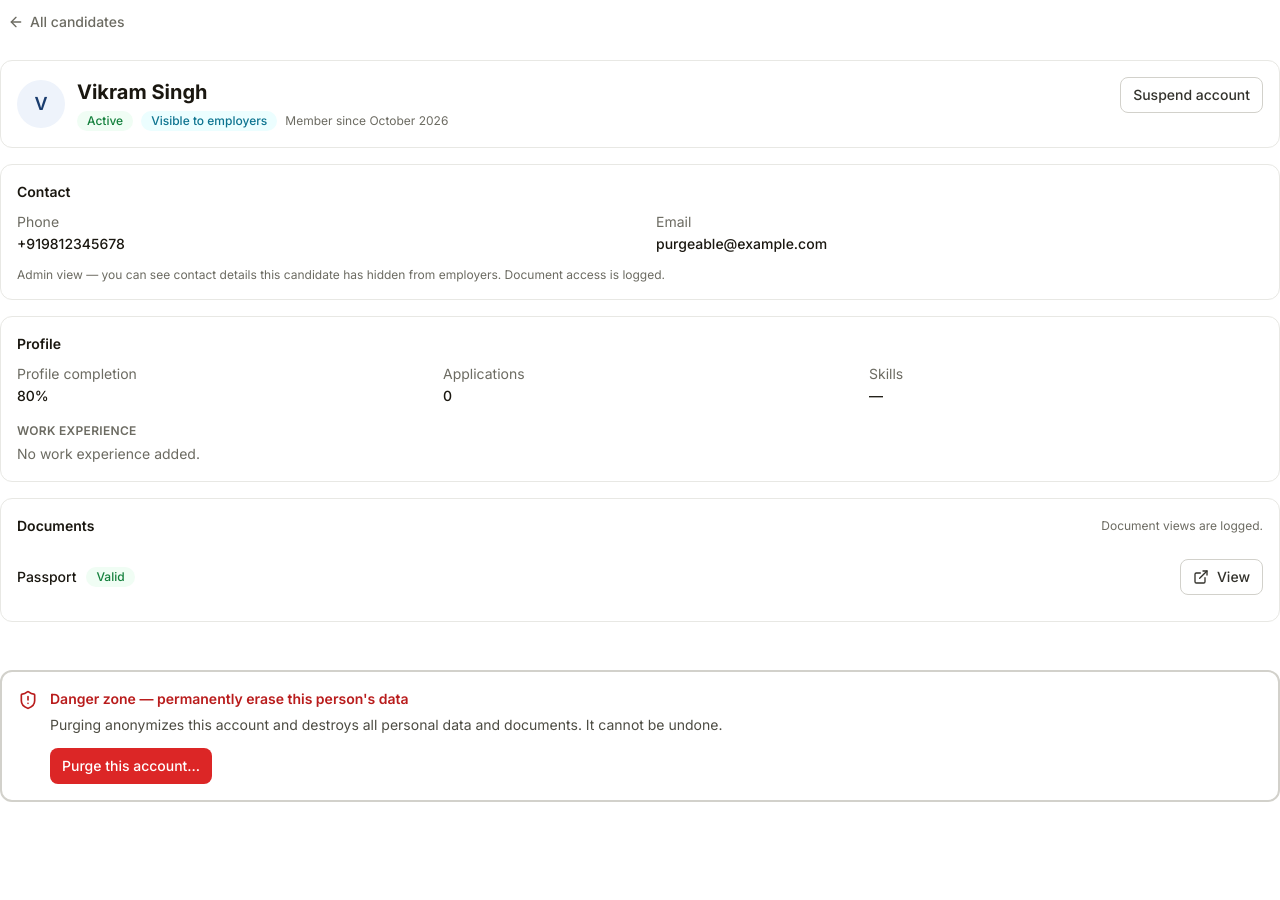
AdminDocumentList (via the detail) › a failed/expired grant shows the refresh-link affordance
Expected: the heading "Vikram Singh" is shown, 77,80 -> 208,104
Click the button with aria-label "view passport". click: x=1221, y=577
box: 1180,559 -> 1263,595
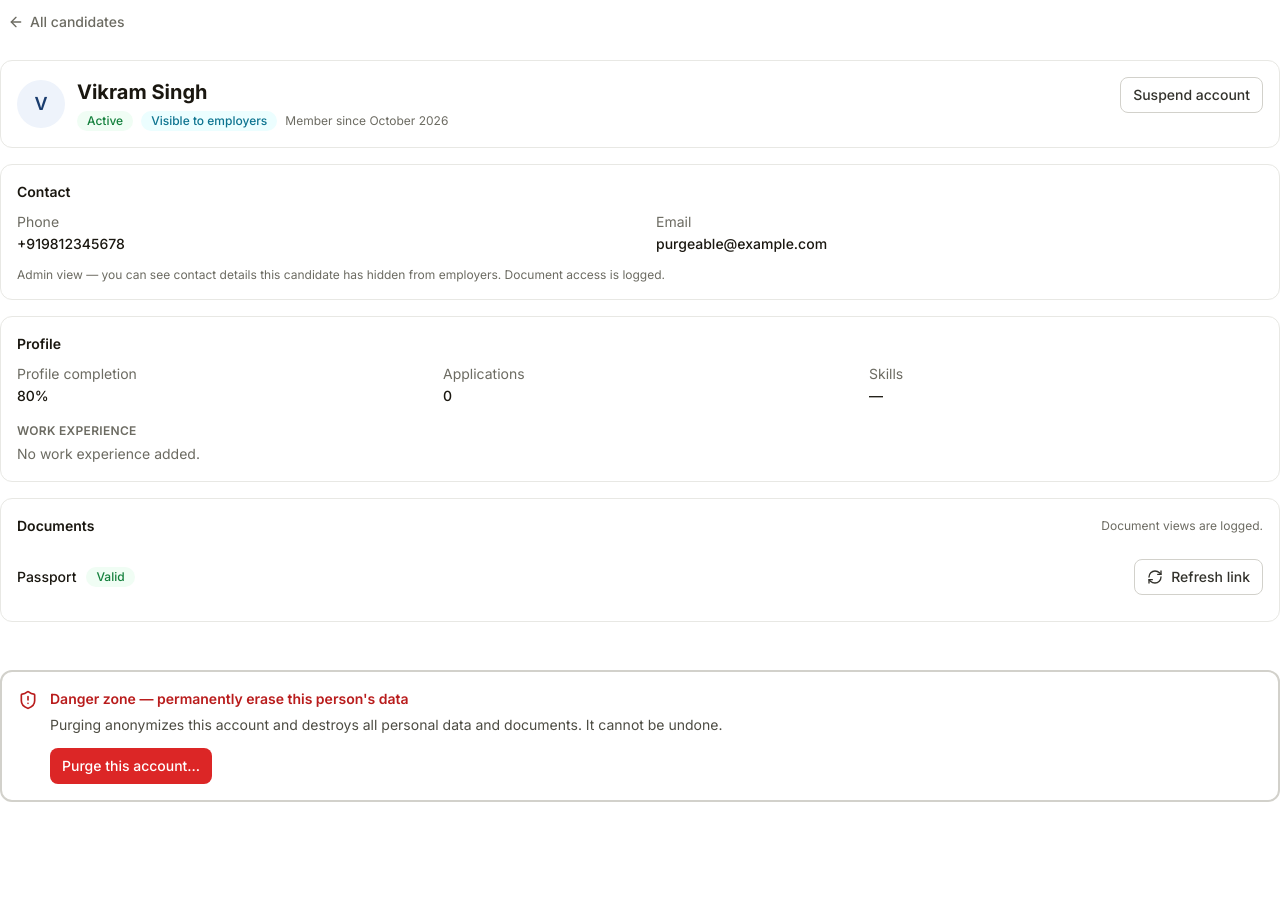
Now the button "Refresh link" is shown, box 1134,559 -> 1263,595
